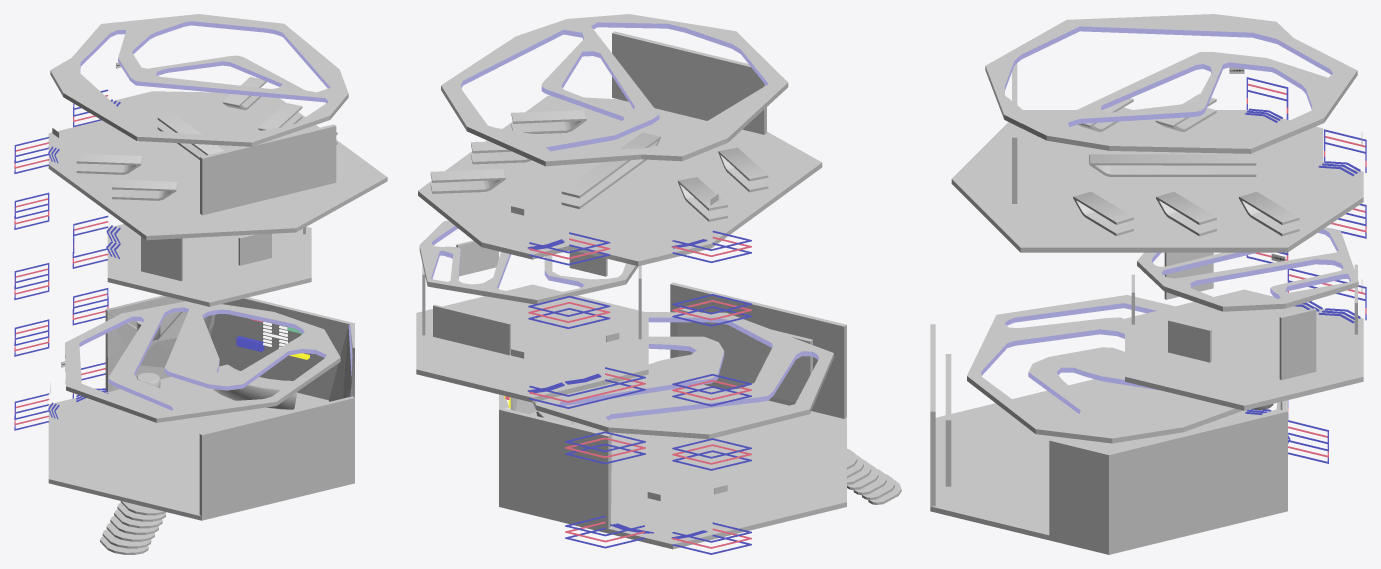
The picture shows the model from 3 angles, left to right: view 1: azimuth 30°, elevation 25°; view 2: azimuth 150°, elevation 25°; view 3: azimuth 270°, elevation 25°; orthographic projection. The views are drawn at different scales.
Parts seen in each view (by area): view 1: lobby_base, lobby_cove_wall, lift_neon_purple, lift_neon_pink, lift_ramp_lights; view 2: lobby_base, expo_video_display, lift_neon_purple, lobby_cove_wall, lobby_video_display, lift_neon_pink, museum_NFT_display003, lift_ramp_lights, museum_NFT_display004; view 3: lobby_base, lobby_cove_wall, lift_neon_purple, lift_ramp_lights, museum_NFT_display005, lift_neon_pink.
Part boxes in pixels (x1,y1,x2,y2): lobby_base: (48, 14, 387, 554); lobby_cove_wall: (77, 21, 352, 410); lift_neon_purple: (14, 89, 108, 430); lift_neon_pink: (14, 95, 108, 425); lift_ramp_lights: (48, 99, 120, 419); lobby_base: (416, 14, 901, 549); expo_video_display: (612, 33, 764, 134); lift_neon_purple: (528, 230, 751, 554); lobby_cove_wall: (431, 22, 819, 420); lobby_video_display: (677, 310, 810, 402); lift_neon_pink: (528, 236, 751, 548); museum_NFT_display003: (458, 241, 498, 276); lift_ramp_lights: (527, 239, 707, 539); museum_NFT_display004: (569, 250, 605, 276); lobby_base: (930, 14, 1363, 554); lobby_cove_wall: (981, 26, 1350, 452); lift_neon_purple: (1246, 77, 1366, 463); lift_ramp_lights: (1245, 108, 1360, 443); museum_NFT_display005: (1166, 252, 1213, 299); lift_neon_pink: (1246, 83, 1366, 457).
Size of what is drawn, in the model's own units: 15.71 by 17.47 by 15.86.
Materials: 10 (3 with a texture image).
